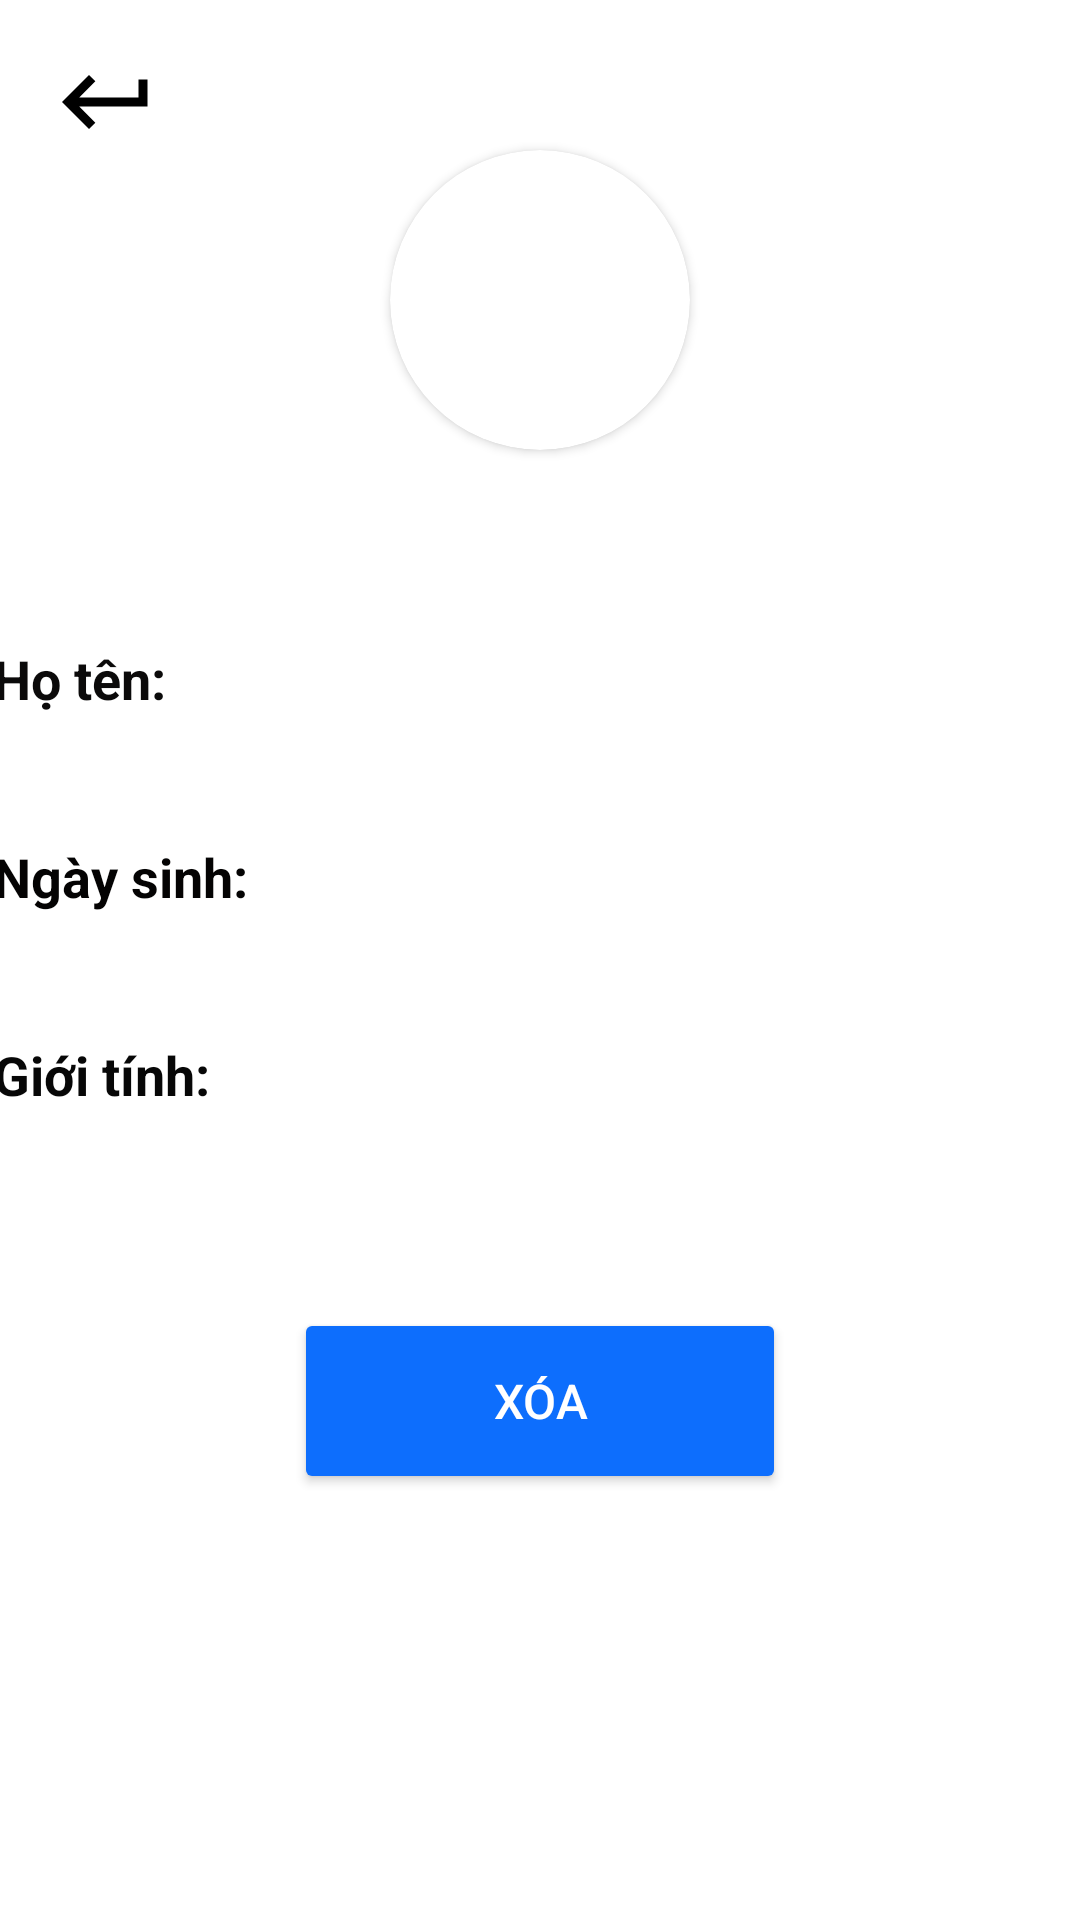

Icon bounding boxes for this 1080 × 1920 phone screenshot, format [left=x1, top=y1, right=x2, bottom=y2]:
keyboard return: [left=62, top=75, right=148, bottom=129]
